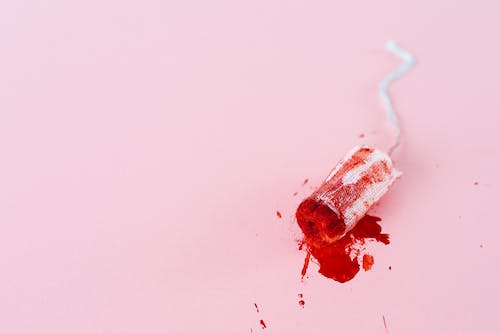blood: (249, 132, 500, 333), (294, 143, 400, 251)
